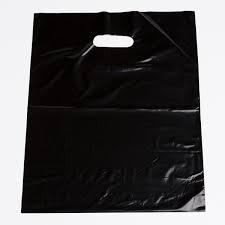Plastic bag: (1, 1, 225, 225)
